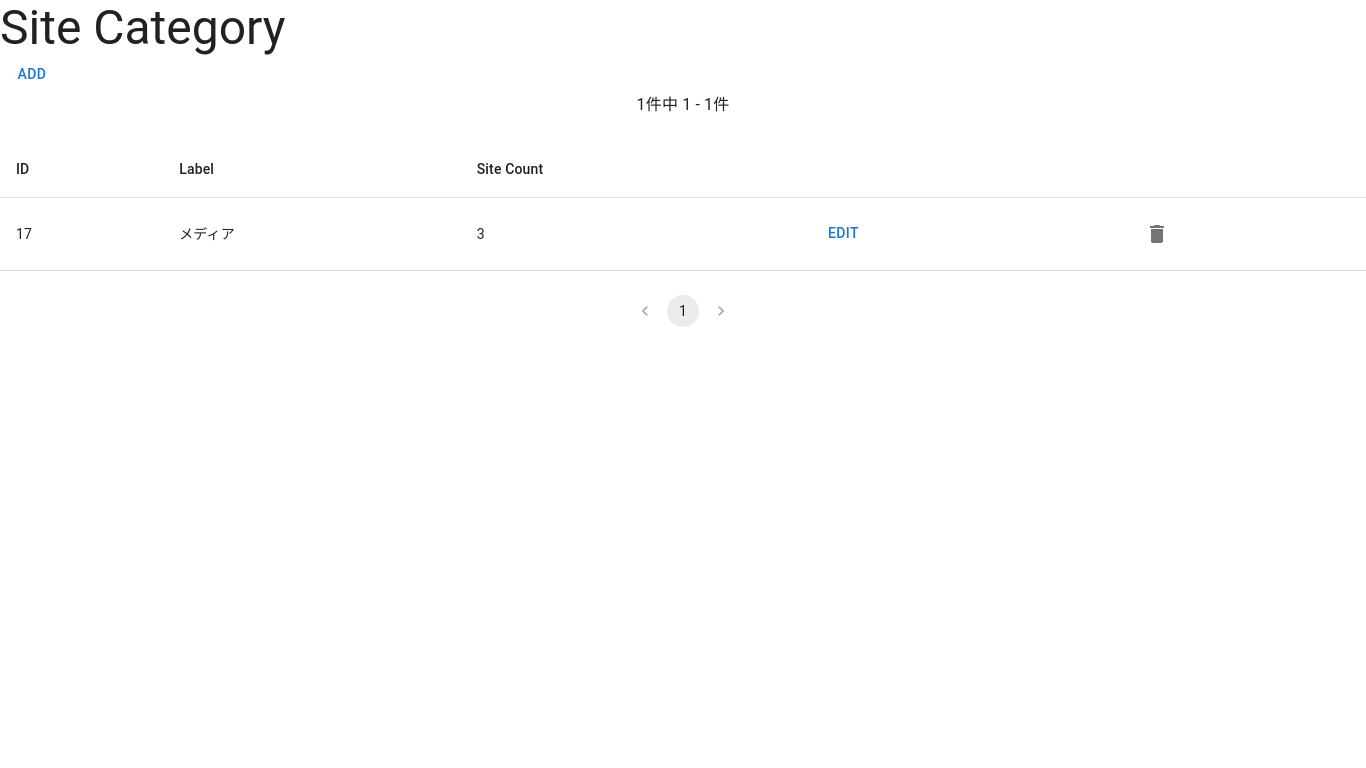
SiteCategories › 削除ボタンをクリックすると確認ダイアログが表示させる
The width and height of the screenshot is (1366, 768).
Click the button named "remove": (1158, 234) [1138,214,1178,254]
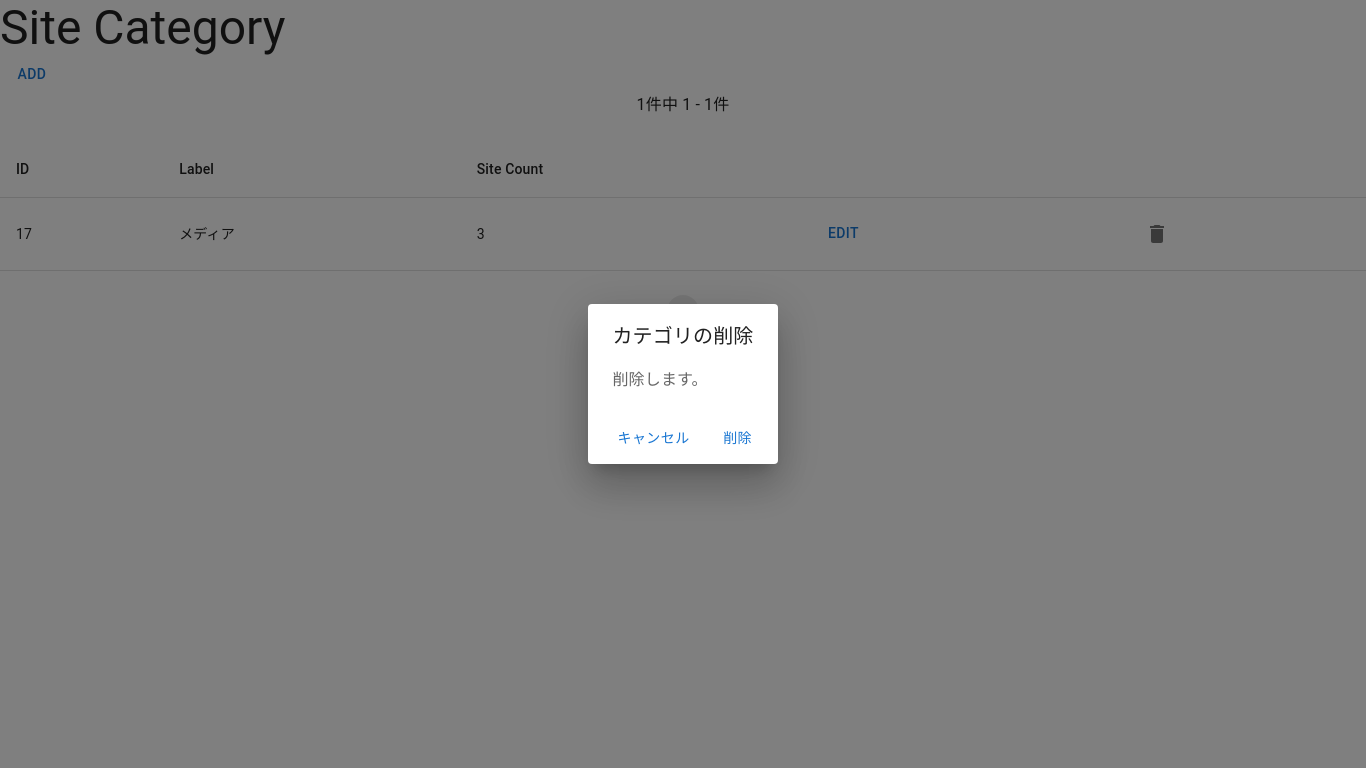
Check: the dialog "カテゴリの削除 削除します。 キャンセル 削除" is shown, box [588,304,778,464]
